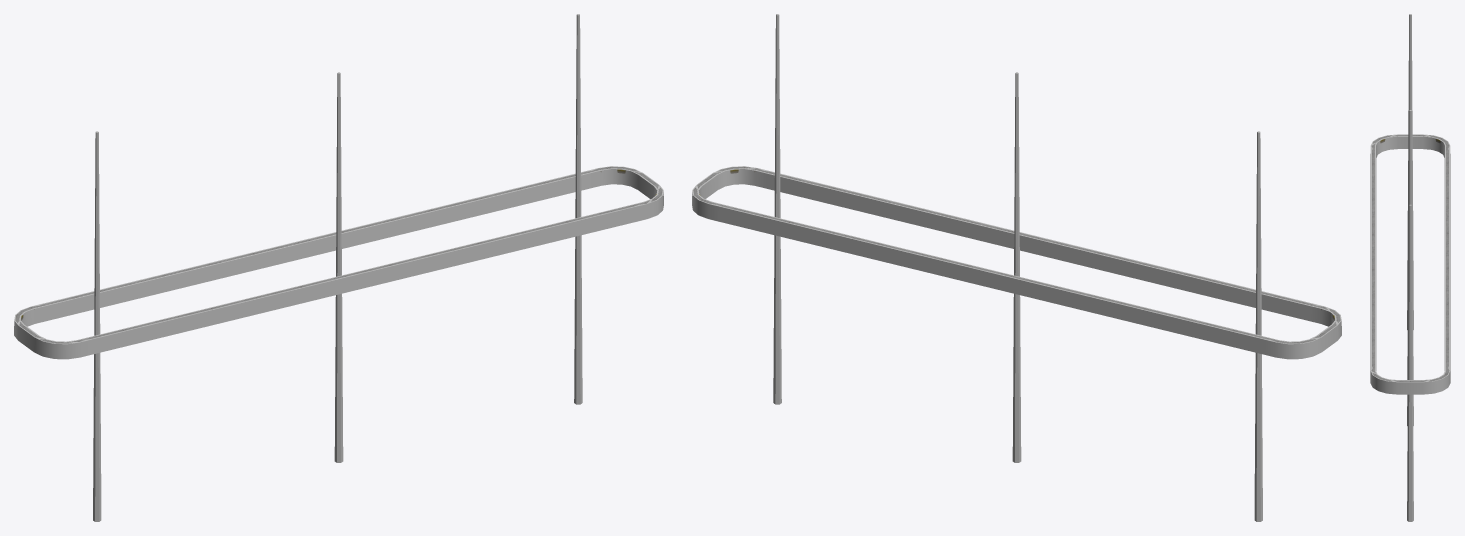
The model's file is concrete_bedding.DAE.
3 views of the same model, side by side, from view 1: azimuth 30°, elevation 25°; view 2: azimuth 150°, elevation 25°; view 3: azimuth 270°, elevation 25° (orthographic). The views are drawn at different scales.
Parts seen in each view (by area): view 1: Colmesh_concrete_bedding-1, concrete_bedding1300; view 2: Colmesh_concrete_bedding-1, concrete_bedding1300; view 3: Colmesh_concrete_bedding-1, concrete_bedding1300.
Boxes of the visible parts, <box> form: Colmesh_concrete_bedding-1: <box>14,14,663,521</box>; concrete_bedding1300: <box>15,14,662,343</box>; Colmesh_concrete_bedding-1: <box>692,14,1341,521</box>; concrete_bedding1300: <box>693,14,1340,343</box>; Colmesh_concrete_bedding-1: <box>1370,14,1450,521</box>; concrete_bedding1300: <box>1371,14,1449,381</box>.
Size of the model in its own units: 2606 by 356 by 1547.
